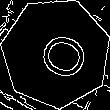O_W: (24, 23, 87, 83)
